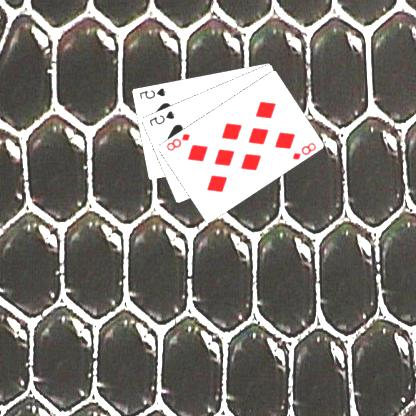5S: (148, 108, 177, 127), (138, 85, 169, 100)
8D: (165, 130, 193, 152), (291, 139, 319, 161)
